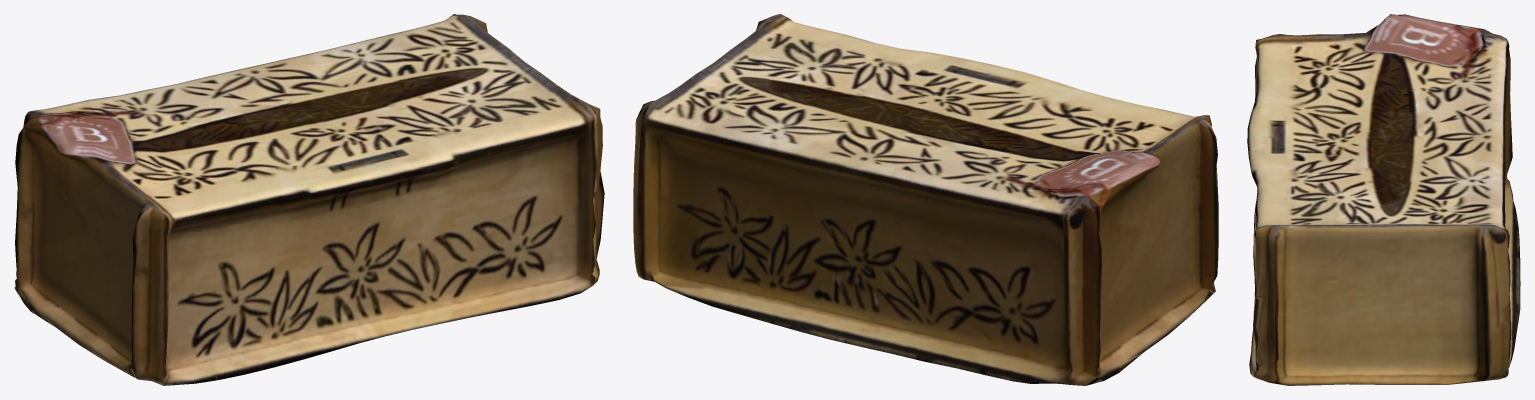
File: Baragakai_Tempat_Tisu_Besar.glb
3 views of the same model, side by side, from view 1: azimuth 30°, elevation 25°; view 2: azimuth 150°, elevation 25°; view 3: azimuth 270°, elevation 25° (orthographic). The views are drawn at different scales.
Visible parts, largest first — view 1: Tisu Besar - Ver AR; view 2: Tisu Besar - Ver AR; view 3: Tisu Besar - Ver AR.
Boxes of the visible parts, bbox=[...] form: Tisu Besar - Ver AR: bbox=[14, 14, 604, 385]; Tisu Besar - Ver AR: bbox=[633, 14, 1218, 385]; Tisu Besar - Ver AR: bbox=[1247, 14, 1520, 385].
Size of the model in its own units: 0.9887 by 0.3869 by 0.5492.
Materials: 1 (1 with a texture image).
